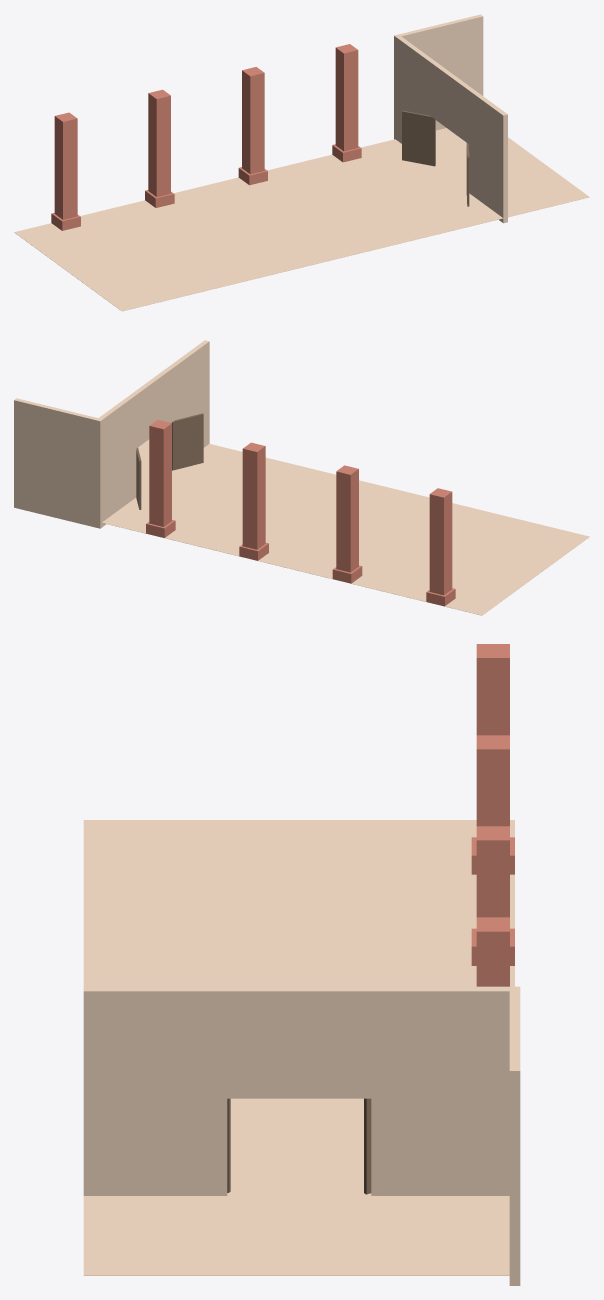
File: ICC_outside.glb
3 renders of one model, top to bottom at view 1: azimuth 30°, elevation 25°; view 2: azimuth 150°, elevation 25°; view 3: azimuth 270°, elevation 25°, orthographic. The views are drawn at different scales.
Parts seen in each view (by area): view 1: Floor-col.001, Pillars, Wall, Wall.001, Door; view 2: Floor-col.001, Pillars, Wall.001, Wall, Door; view 3: Floor-col.001, Wall, Pillars, Wall.001, Door.
Part boxes in pixels (box(x1,y1,x2,y2)): Floor-col.001: box(14, 128, 589, 311); Pillars: box(51, 44, 361, 230); Wall: box(396, 35, 507, 223); Wall.001: box(394, 14, 483, 139); Door: box(402, 110, 469, 206); Floor-col.001: box(102, 439, 589, 615); Pillars: box(146, 420, 455, 606); Wall.001: box(14, 398, 102, 528); Wall: box(97, 340, 209, 526); Door: box(136, 413, 203, 509); Floor-col.001: box(83, 820, 514, 1275); Wall: box(83, 986, 514, 1195); Pillars: box(471, 644, 514, 986); Wall.001: box(509, 986, 520, 1285); Door: box(227, 1098, 371, 1194).
Size of the model in its own units: 50 by 11.5 by 20.25.
1 material, 1 textured.
